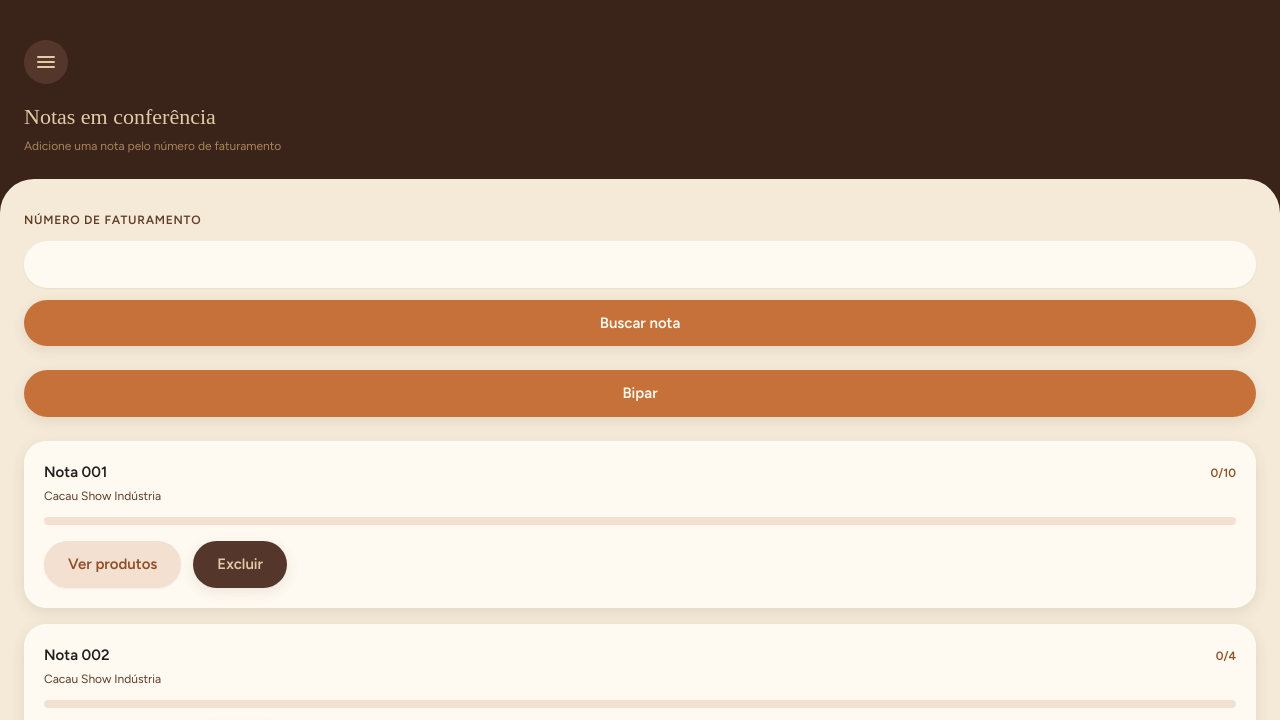
Test: NotesQueueScreen › UT-042: excluir uma nota recarrega a fila e o card some
This screenshot has width=1280, height=720.
Check: the text "Nota 001" is shown, box x1=44 y1=460 x2=107 y2=483
What coordinates should you click on to do the following:
click the button "Excluir"
I would click on:
 (240, 564)
Its box is x1=193 y1=541 x2=287 y2=588.
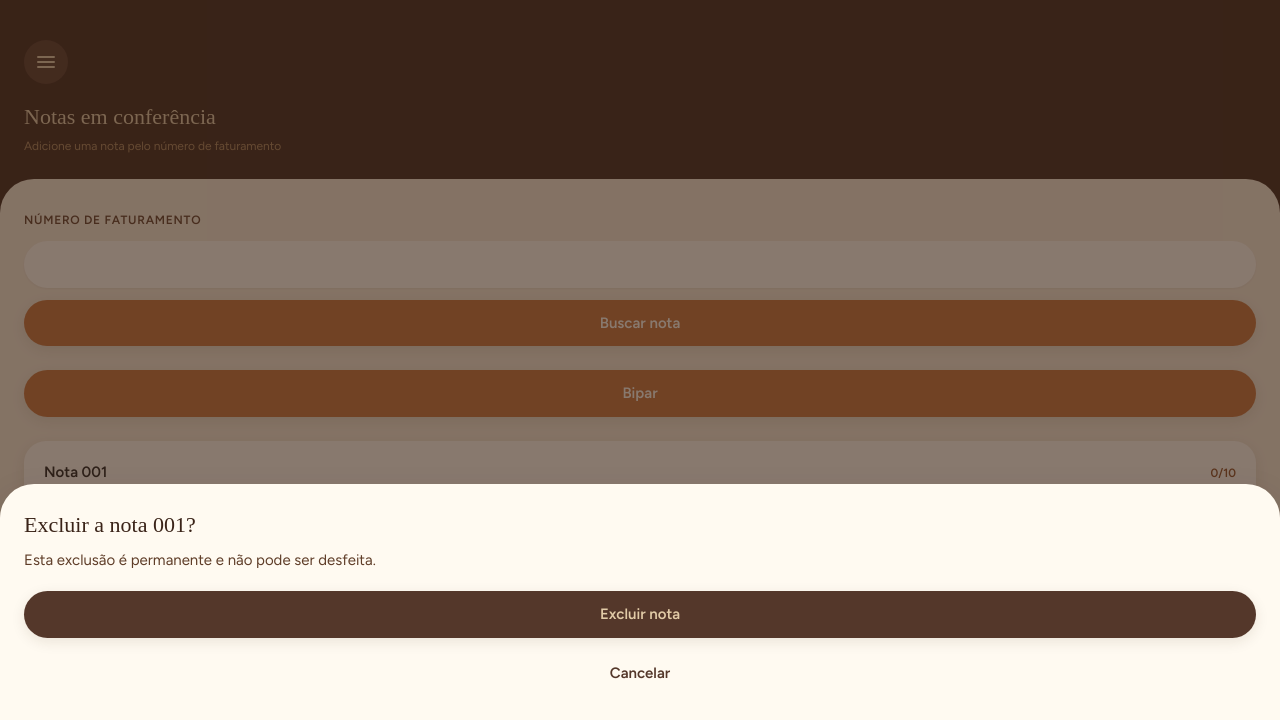
What coordinates should you click on to do the following:
click the button "Excluir nota"
I would click on:
 (640, 614)
Its box is x1=24 y1=591 x2=1256 y2=638.
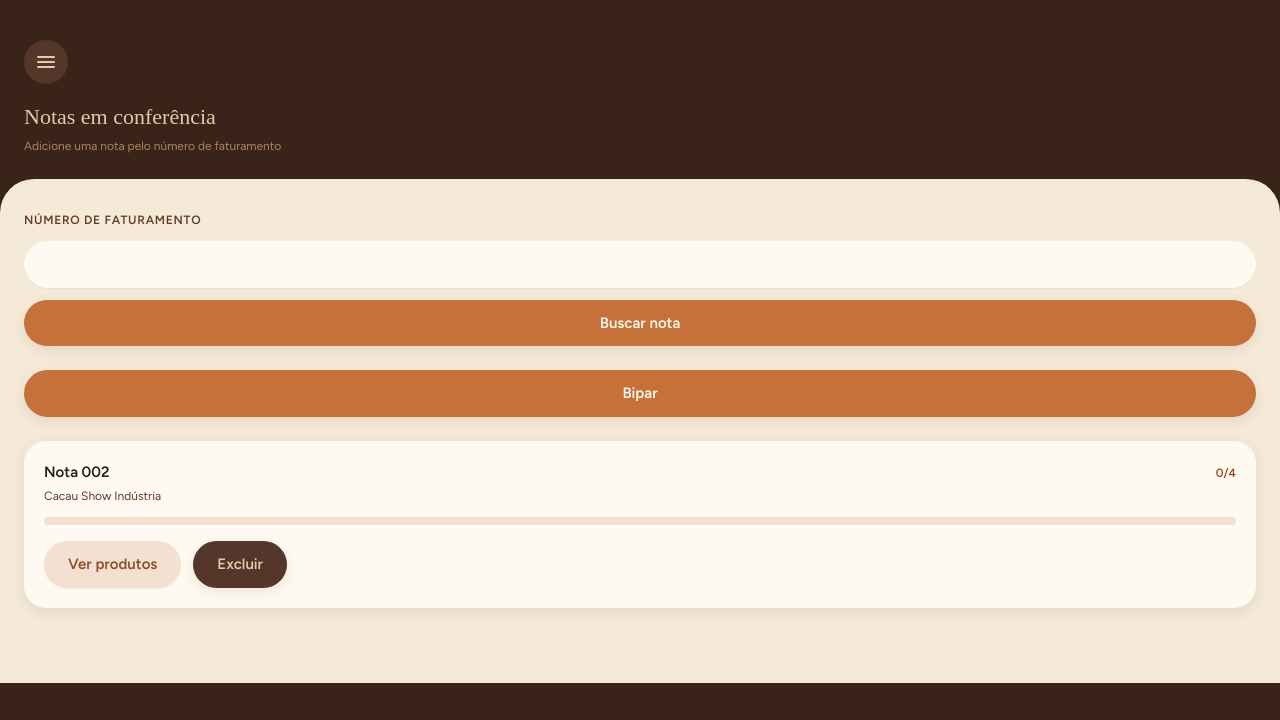
Check: the text "Nota 002" is shown, box x1=44 y1=460 x2=110 y2=483
Check: the text "Nota 001" is gone
